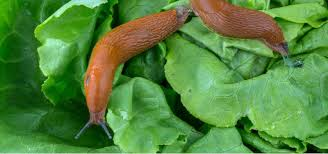slug: (75, 5, 189, 138), (189, 1, 297, 66)
